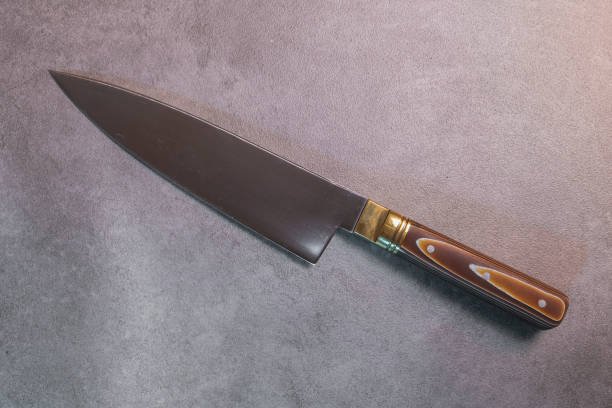knife: (44, 68, 570, 334)
